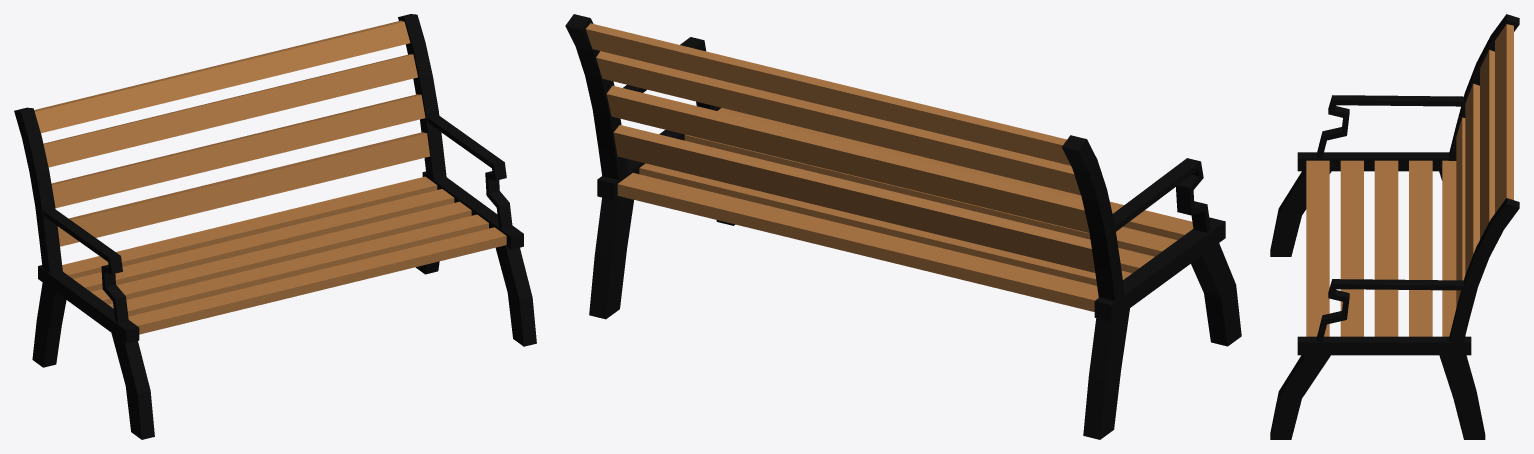
Rendered from bench1.glb.
3 renders of one model, left to right at view 1: azimuth 30°, elevation 25°; view 2: azimuth 150°, elevation 25°; view 3: azimuth 270°, elevation 25°, orthographic. The views are drawn at different scales.
Parts seen in each view (by area): view 1: Cube.001; view 2: Cube.001; view 3: Cube.001.
Part boxes in pixels (x1,y1,x2,y2): Cube.001: (14,14,536,439); Cube.001: (565,14,1241,439); Cube.001: (1270,14,1519,439).
Bounding box in the file's own units: 3.73 × 2.16 × 2.07.
